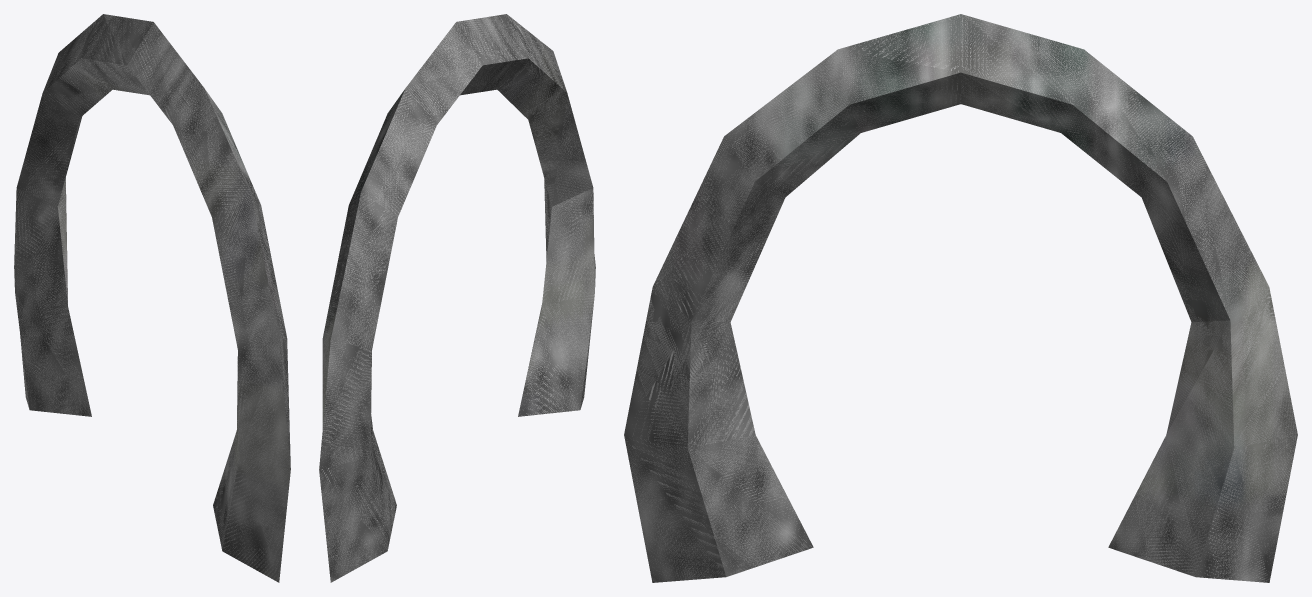
File: original-3.obj
The picture shows the model from 3 angles, left to right: view 1: azimuth 30°, elevation 25°; view 2: azimuth 150°, elevation 25°; view 3: azimuth 270°, elevation 25°; orthographic projection. The views are drawn at different scales.
Visible parts, largest first — view 1: #ID31; view 2: #ID31; view 3: #ID31.
Boxes of the visible parts, <box> form: #ID31: <box>14,14,290,582</box>; #ID31: <box>319,14,595,582</box>; #ID31: <box>624,14,1297,582</box>.
Bounding box in the file's own units: 0.0133 × 0.1176 × 0.1261.
